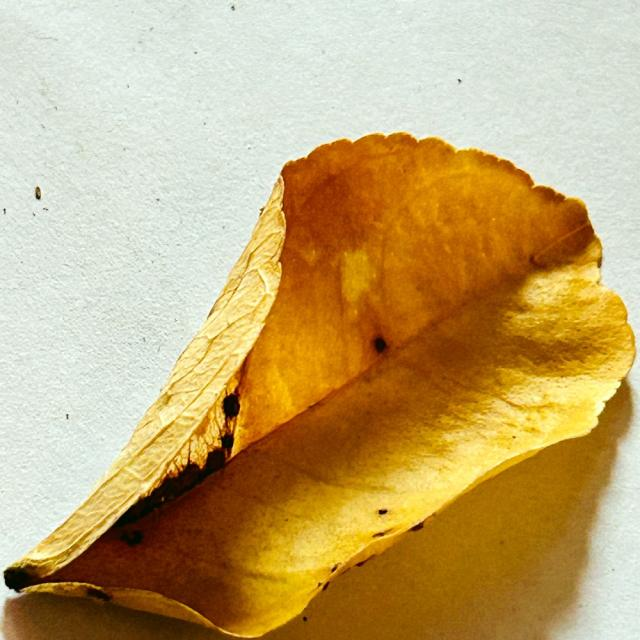DryLeaf_Lemon: (4, 133, 635, 636)
